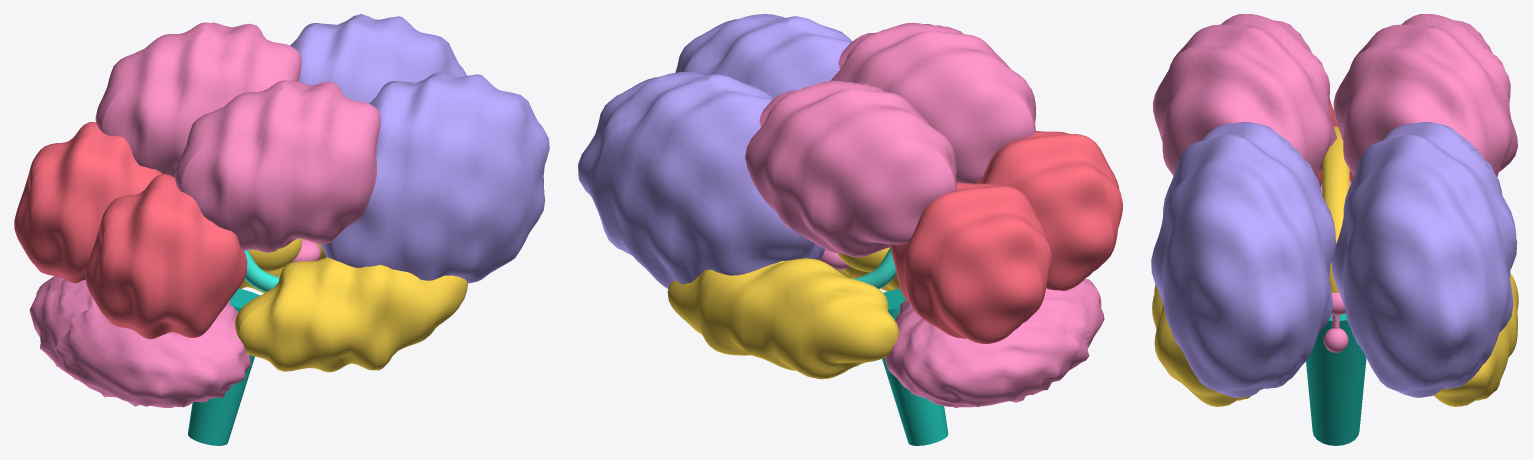
The model's file is human-brain.glb.
The picture shows the model from 3 angles, left to right: view 1: azimuth 30°, elevation 25°; view 2: azimuth 150°, elevation 25°; view 3: azimuth 270°, elevation 25°; orthographic projection. The views are drawn at different scales.
Visible parts, largest first — view 1: parietal_mesh (×2), frontal_mesh (×2), occipital_mesh (×2), temporal_mesh, cerebellum_mesh, brainstem_mesh, thalamus_mesh, hippocampus_mesh; view 2: parietal_mesh (×2), frontal_mesh (×2), occipital_mesh (×2), temporal_mesh, cerebellum_mesh, brainstem_mesh, hippocampus_mesh, thalamus_mesh; view 3: frontal_mesh (×2), parietal_mesh (×2), brainstem_mesh, temporal_mesh (×2), corpus-callosum_mesh, hypothalamus_mesh.
Boxes of the visible parts, <box> form: parietal_mesh (×2): <box>95,22,380,252</box>; frontal_mesh (×2): <box>290,14,549,283</box>; occipital_mesh (×2): <box>14,122,247,339</box>; temporal_mesh: <box>235,257,467,372</box>; cerebellum_mesh: <box>29,276,250,407</box>; brainstem_mesh: <box>188,288,259,445</box>; thalamus_mesh: <box>248,238,301,271</box>; hippocampus_mesh: <box>244,250,279,292</box>; parietal_mesh (×2): <box>745,22,1035,257</box>; frontal_mesh (×2): <box>578,14,852,288</box>; occipital_mesh (×2): <box>891,131,1122,343</box>; temporal_mesh: <box>667,258,899,379</box>; cerebellum_mesh: <box>885,278,1104,407</box>; brainstem_mesh: <box>882,288,948,445</box>; hippocampus_mesh: <box>854,247,896,288</box>; thalamus_mesh: <box>837,247,889,272</box>; frontal_mesh (×2): <box>1151,122,1517,397</box>; parietal_mesh (×2): <box>1153,14,1517,177</box>; brainstem_mesh: <box>1306,313,1366,445</box>; temporal_mesh (×2): <box>1152,273,1518,406</box>; corpus-callosum_mesh: <box>1322,126,1349,292</box>; hypothalamus_mesh: <box>1323,328,1348,352</box>.
Size of the model in its own units: 3.3 by 2.62 by 2.04.
